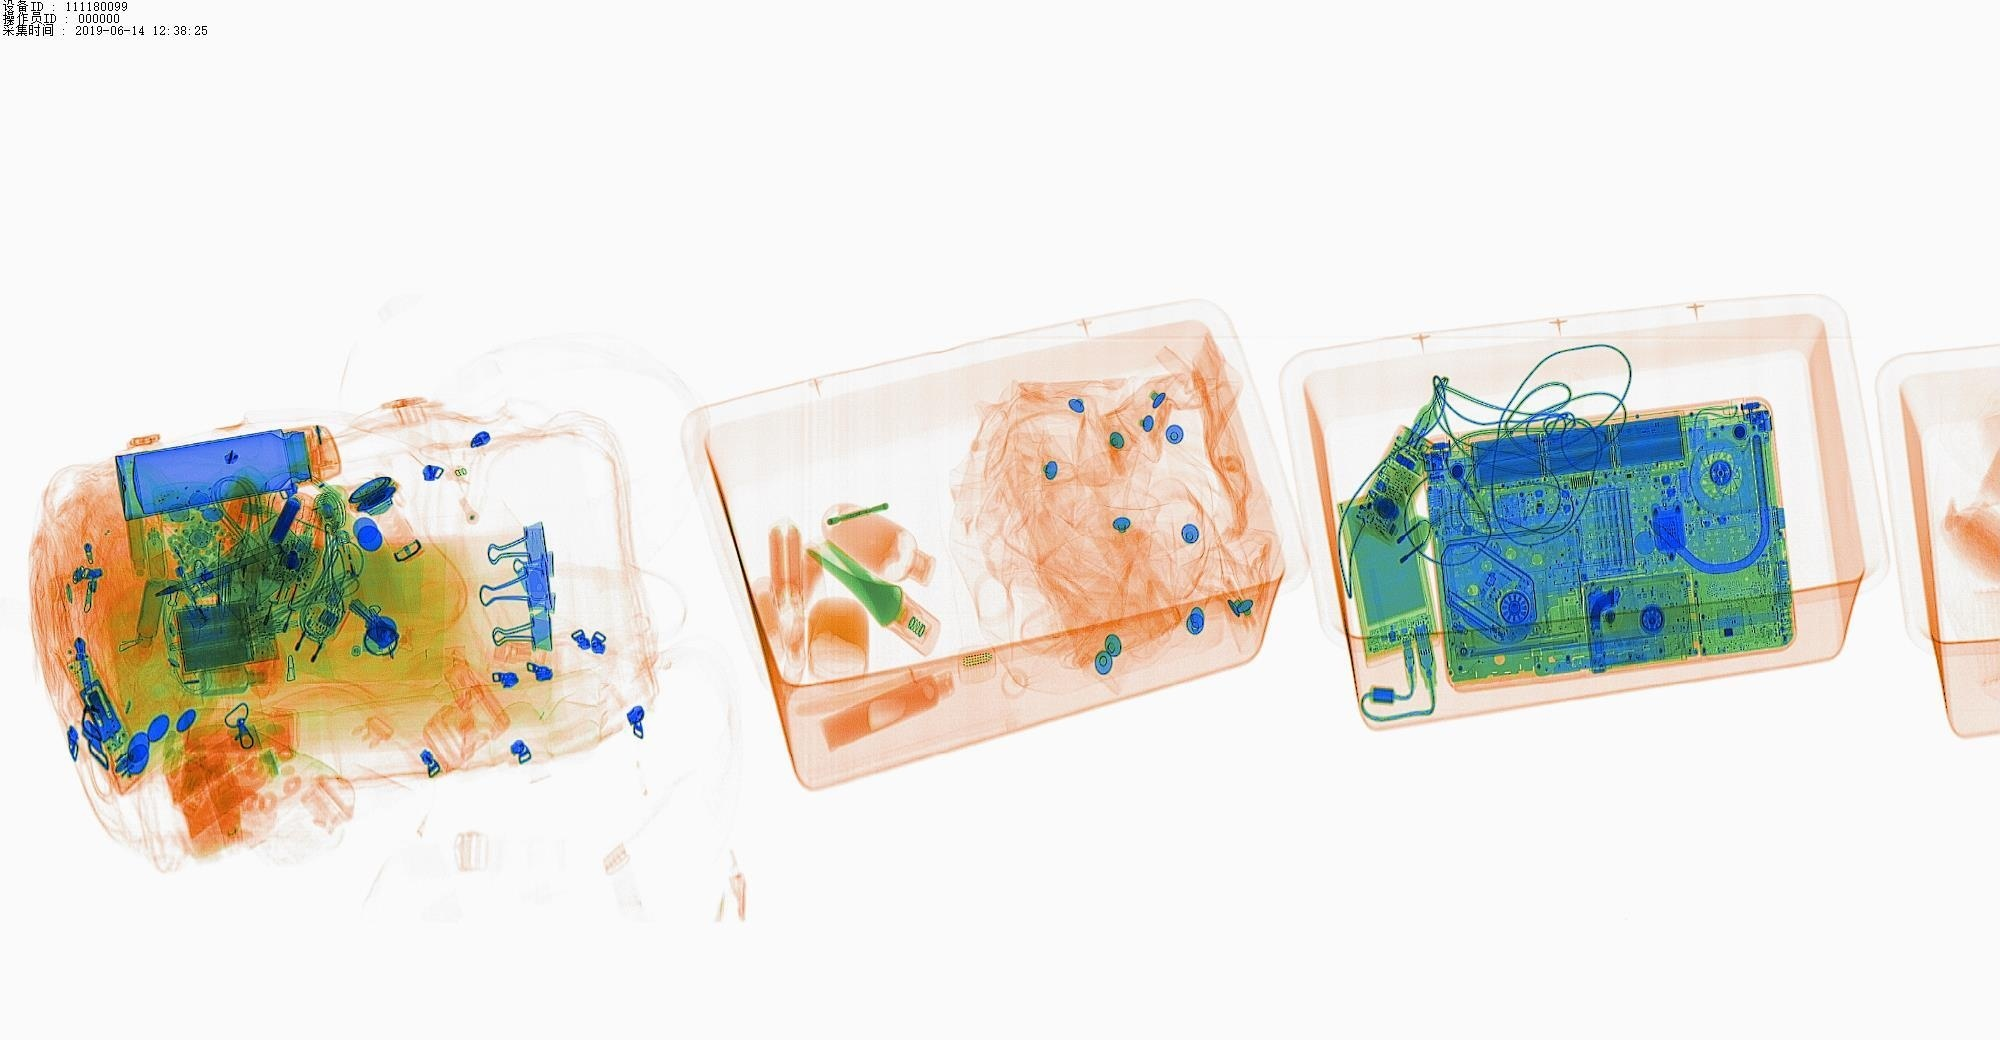NonmetallicFire: (323, 517, 369, 632), (231, 523, 270, 625)
